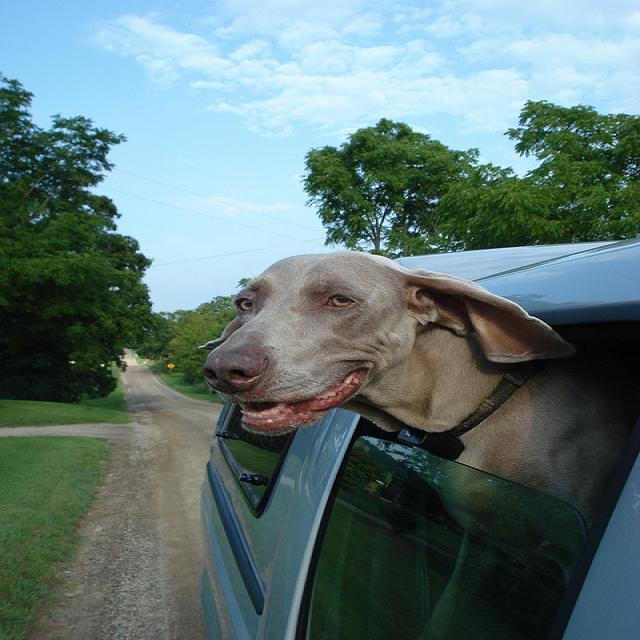Vehicle: (199, 236, 640, 633)
